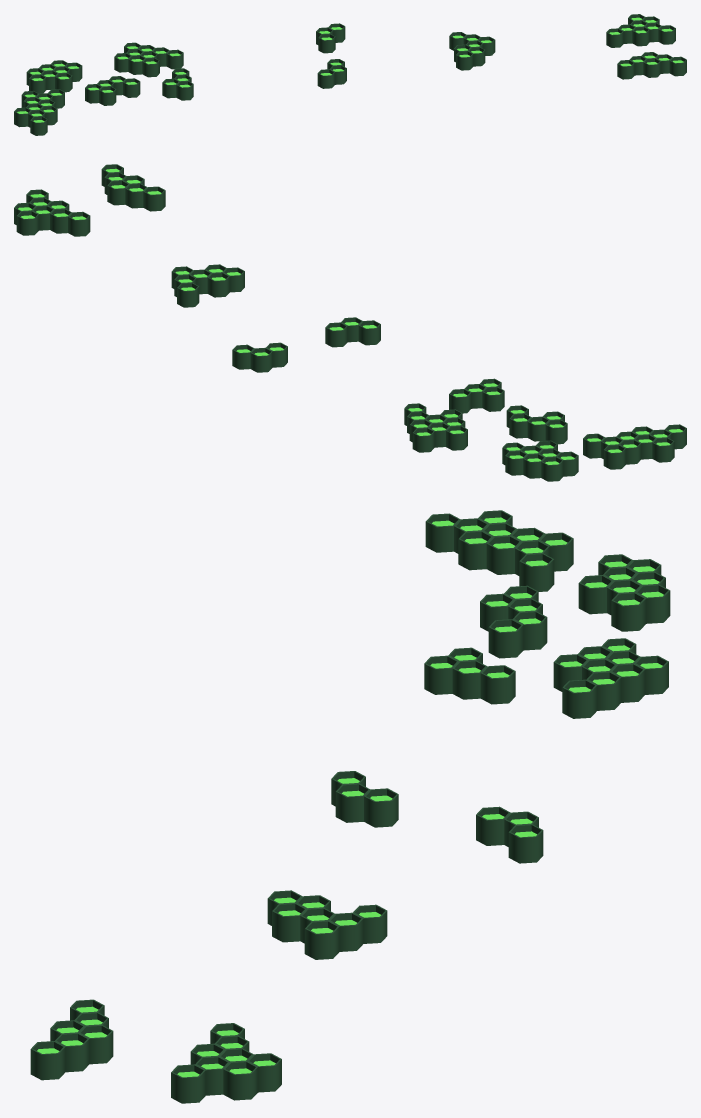
The model's file is MSH_Jardineras_Hexagonales_Chicas.FBX.
3 renders of one model, top to bottom at view 1: azimuth 30°, elevation 25°; view 2: azimuth 150°, elevation 25°; view 3: azimuth 270°, elevation 25°, orthographic. The views are drawn at different scales.
Parts seen in each view (by area): view 1: MSH_Jardinera_Hexagonales_Chicas, MSH_Jardinera_Hexagonales_Chicas.001, MSH_Jardinera_Hexagonales_Chicas.002, MSH_Jardinera_Hexagonales_Chicas.003; view 2: MSH_Jardinera_Hexagonales_Chicas, MSH_Jardinera_Hexagonales_Chicas.002, MSH_Jardinera_Hexagonales_Chicas.001, MSH_Jardinera_Hexagonales_Chicas.003; view 3: MSH_Jardinera_Hexagonales_Chicas, MSH_Jardinera_Hexagonales_Chicas.002, MSH_Jardinera_Hexagonales_Chicas.001, MSH_Jardinera_Hexagonales_Chicas.003.
Boxes of the visible parts, <box> form: MSH_Jardinera_Hexagonales_Chicas: <box>14,60,140,135</box>; MSH_Jardinera_Hexagonales_Chicas.001: <box>606,14,686,79</box>; MSH_Jardinera_Hexagonales_Chicas.002: <box>316,23,495,88</box>; MSH_Jardinera_Hexagonales_Chicas.003: <box>114,42,193,100</box>; MSH_Jardinera_Hexagonales_Chicas: <box>502,405,686,481</box>; MSH_Jardinera_Hexagonales_Chicas.002: <box>171,264,380,372</box>; MSH_Jardinera_Hexagonales_Chicas.001: <box>14,164,165,236</box>; MSH_Jardinera_Hexagonales_Chicas.003: <box>404,378,504,452</box>; MSH_Jardinera_Hexagonales_Chicas: <box>425,510,670,658</box>; MSH_Jardinera_Hexagonales_Chicas.002: <box>267,771,543,959</box>; MSH_Jardinera_Hexagonales_Chicas.001: <box>30,999,281,1103</box>; MSH_Jardinera_Hexagonales_Chicas.003: <box>424,638,668,718</box>.
Size of the model in its own units: 3820 by 80 by 1818.
